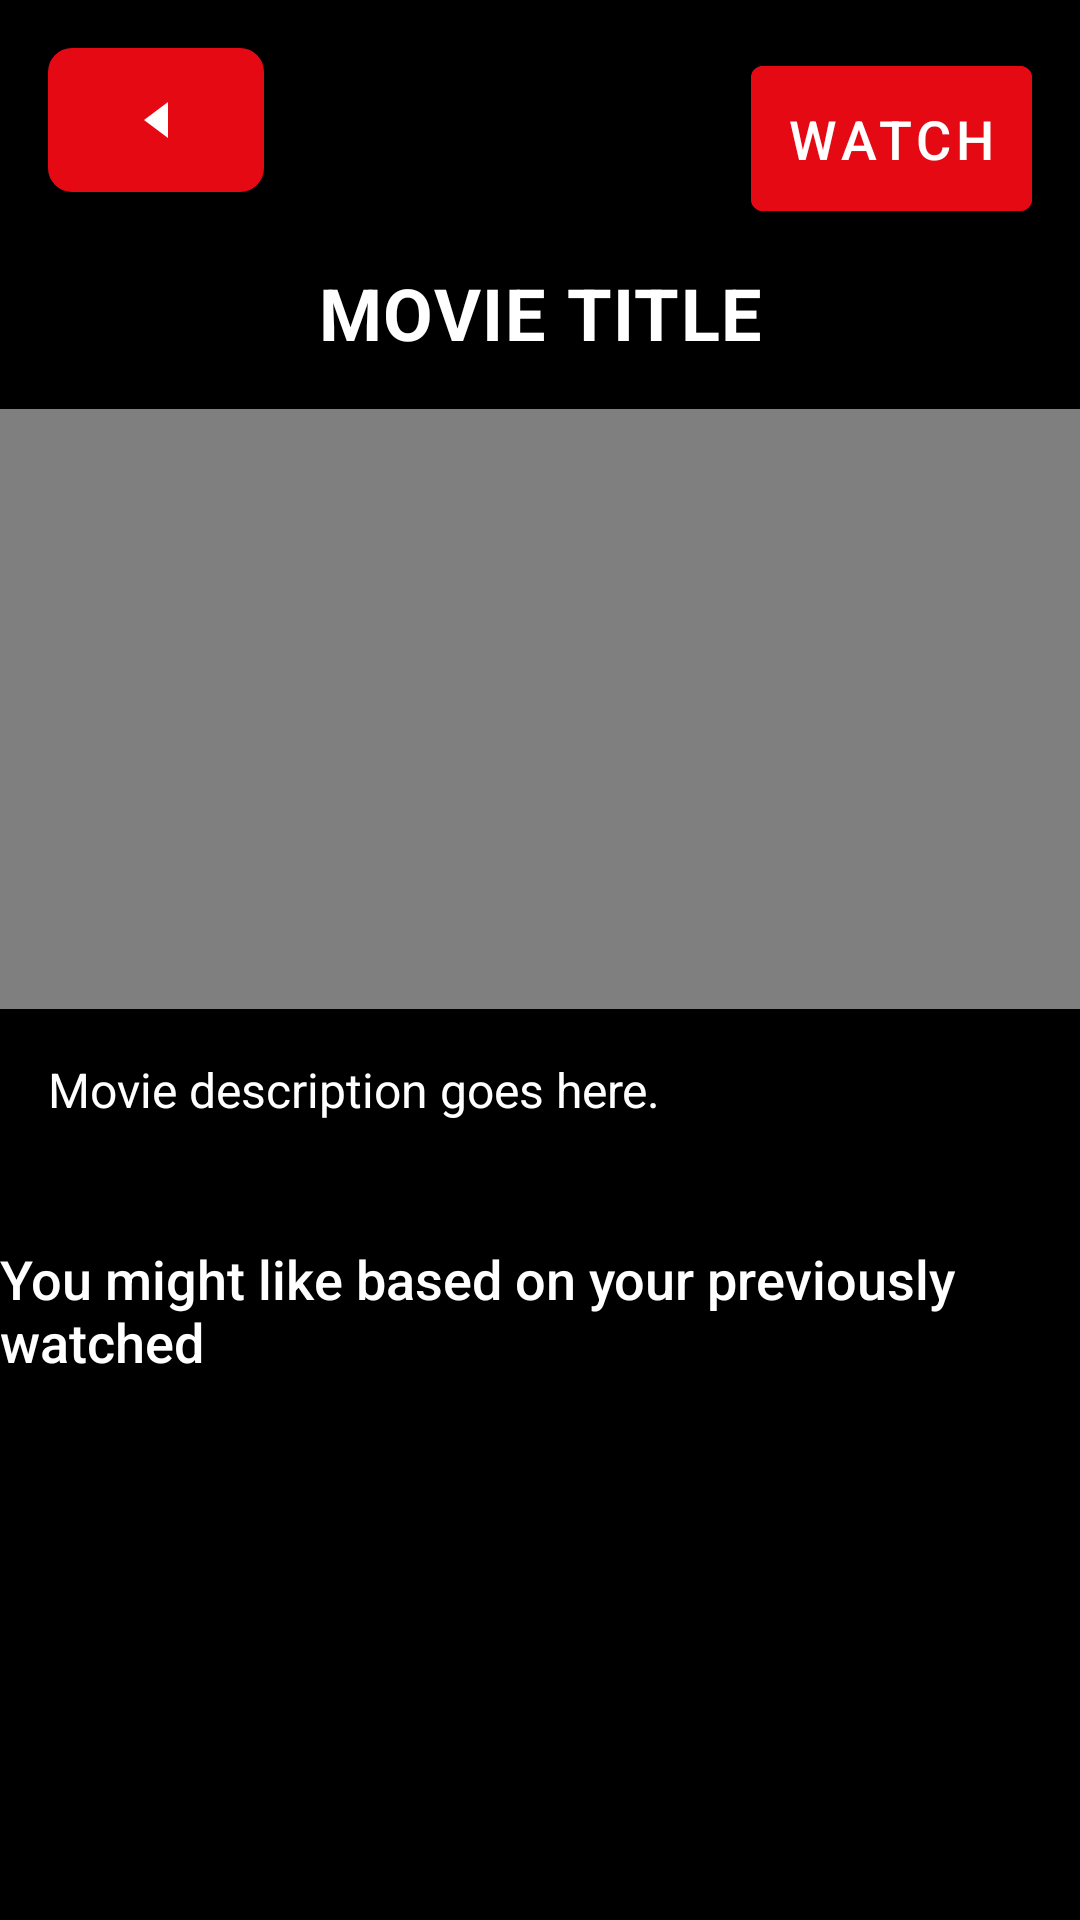

Named icons in this screenshot (1080px×1920px) and their centers, (x,y):
Back: (156,120)
